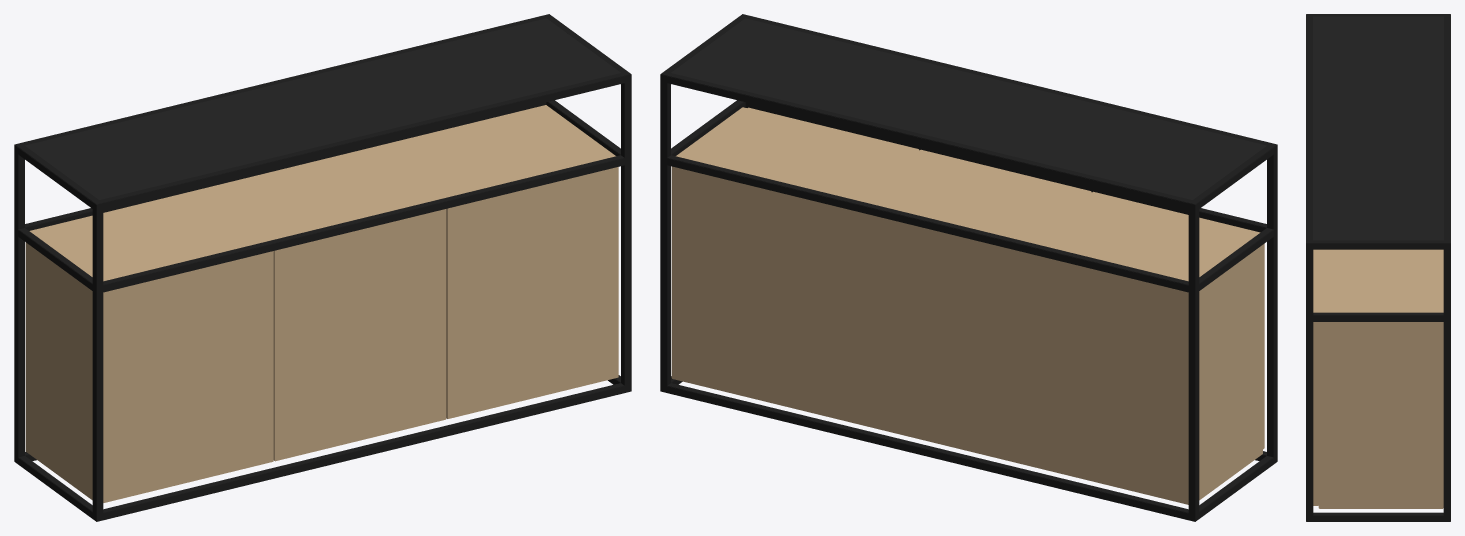
3 views of the same model, side by side, from view 1: azimuth 30°, elevation 25°; view 2: azimuth 150°, elevation 25°; view 3: azimuth 270°, elevation 25° (orthographic). The views are drawn at different scales.
Visible parts, largest first — view 1: recta-w-series-sb-62011-sideboard-buffet-lemari-cabinet-indu; view 2: recta-w-series-sb-62011-sideboard-buffet-lemari-cabinet-indu; view 3: recta-w-series-sb-62011-sideboard-buffet-lemari-cabinet-indu.
Part boxes in pixels (<box>): recta-w-series-sb-62011-sideboard-buffet-lemari-cabinet-indu: <box>14,14,631,521</box>; recta-w-series-sb-62011-sideboard-buffet-lemari-cabinet-indu: <box>660,14,1277,521</box>; recta-w-series-sb-62011-sideboard-buffet-lemari-cabinet-indu: <box>1306,14,1450,521</box>.
Size of the model in its own units: 1.5 by 0.85 by 0.4.
